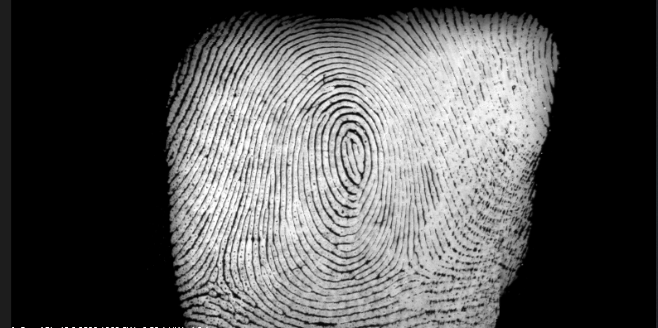nucelo: (334, 127, 369, 189)
verticilo: (197, 263, 226, 296), (390, 251, 416, 277)
